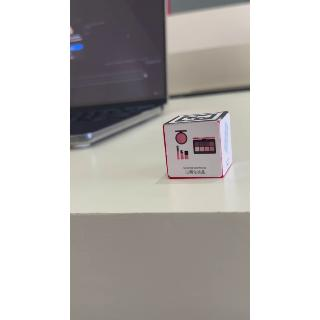Expired_Cosmetic: (163, 125, 226, 179)
